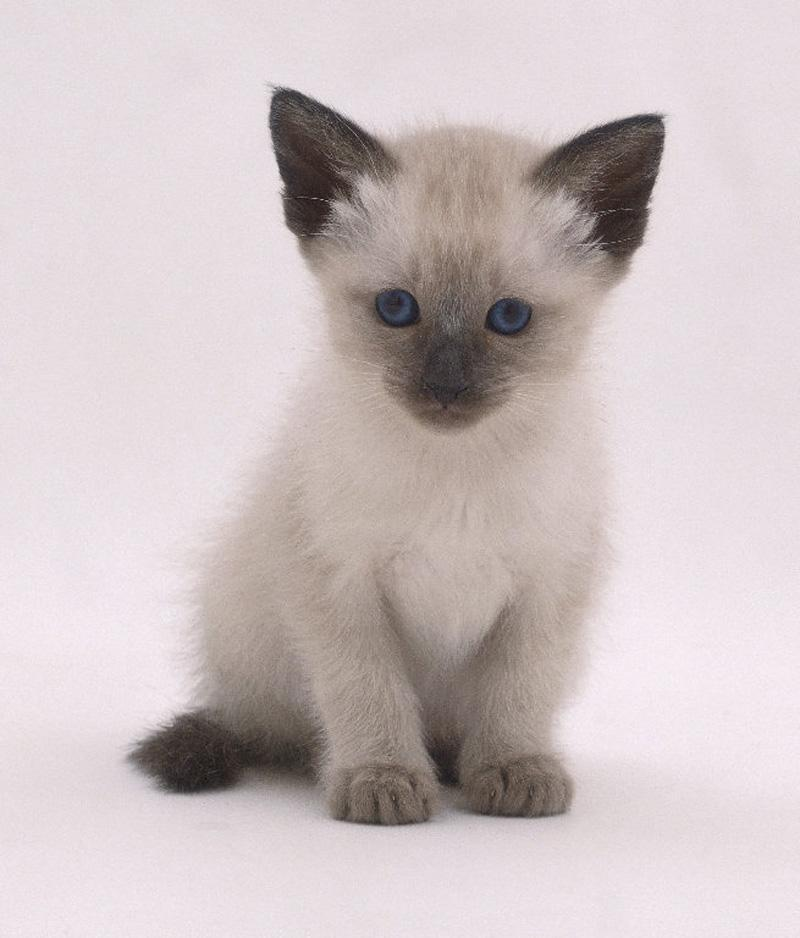siamese: (258, 80, 682, 467)
